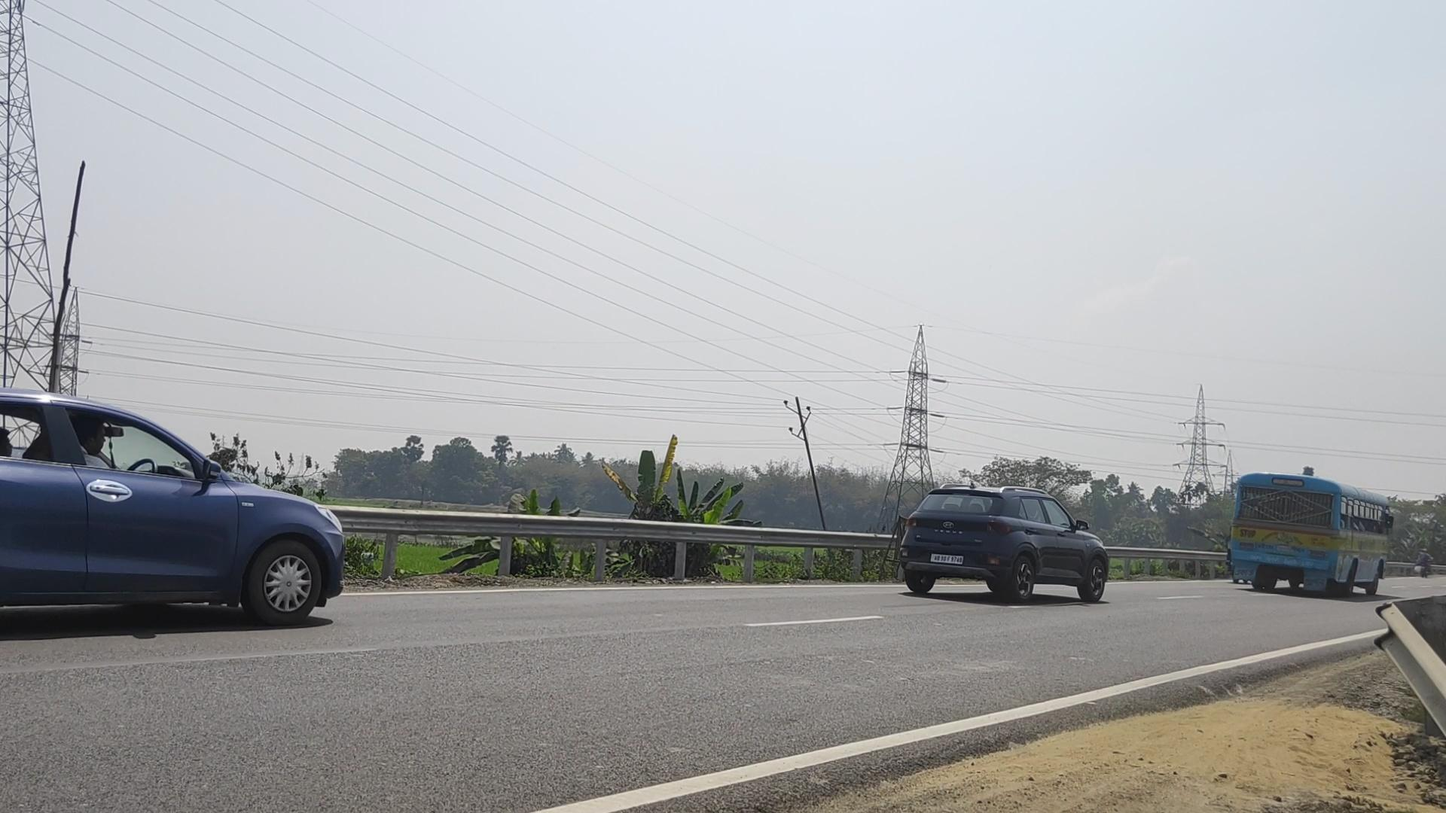Bus: (1229, 471, 1394, 598)
car: (2, 388, 343, 638), (899, 481, 1109, 604)
